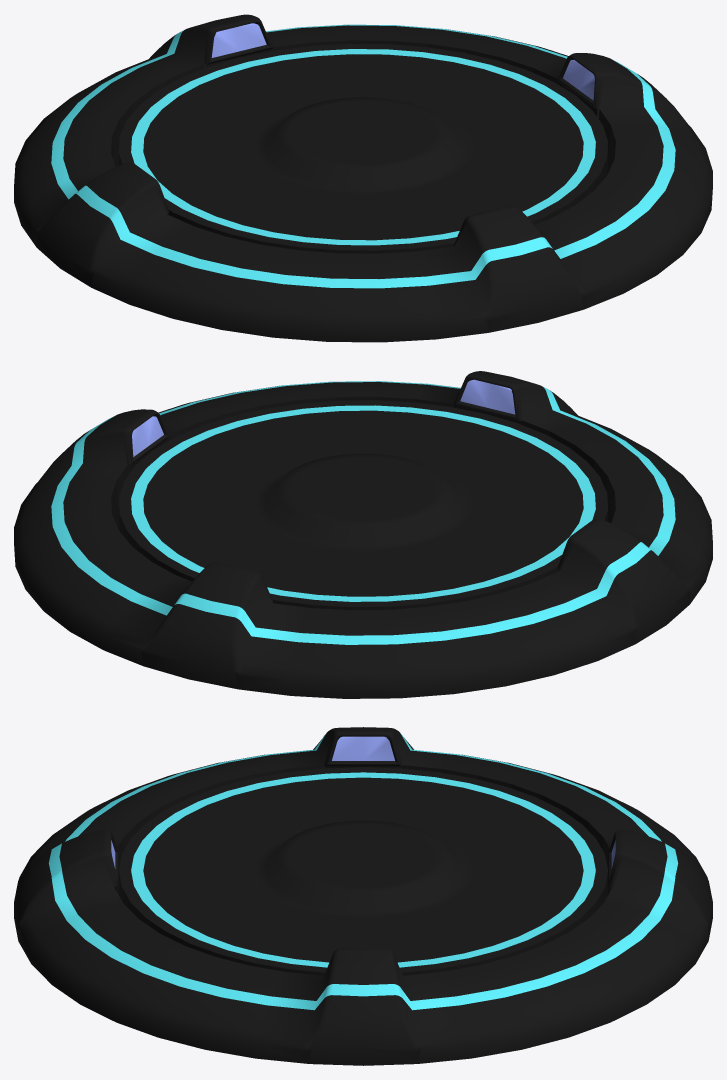
Rendered from museum_plate.FBX.
The picture shows the model from 3 angles, top to bottom: view 1: azimuth 30°, elevation 25°; view 2: azimuth 150°, elevation 25°; view 3: azimuth 270°, elevation 25°; orthographic projection.
Visible parts, largest first — view 1: circle, plate; view 2: circle, plate; view 3: circle, plate.
Part boxes in pixels (<box>): circle: <box>14,14,712,342</box>; plate: <box>119,43,607,253</box>; circle: <box>14,371,712,698</box>; plate: <box>119,400,607,610</box>; circle: <box>14,727,712,1065</box>; plate: <box>119,767,607,975</box>.
Size of the model in its own units: 1.02 by 0.1243 by 1.02.
